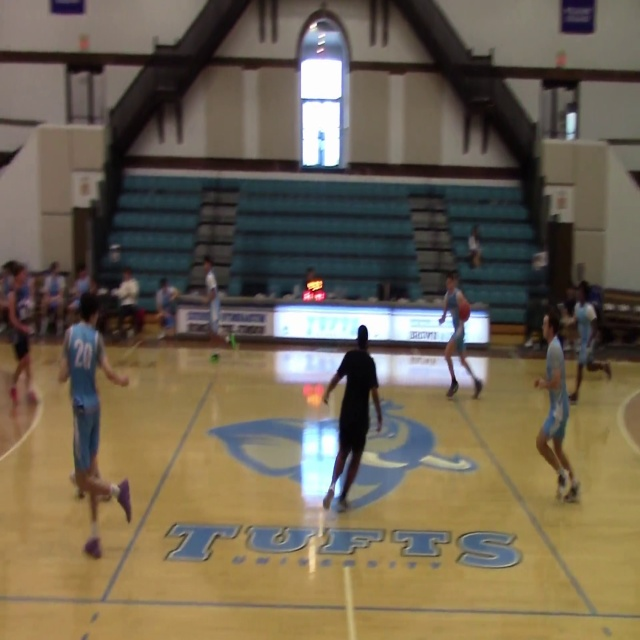Basketball: (457, 298, 470, 322), (210, 353, 220, 362)
